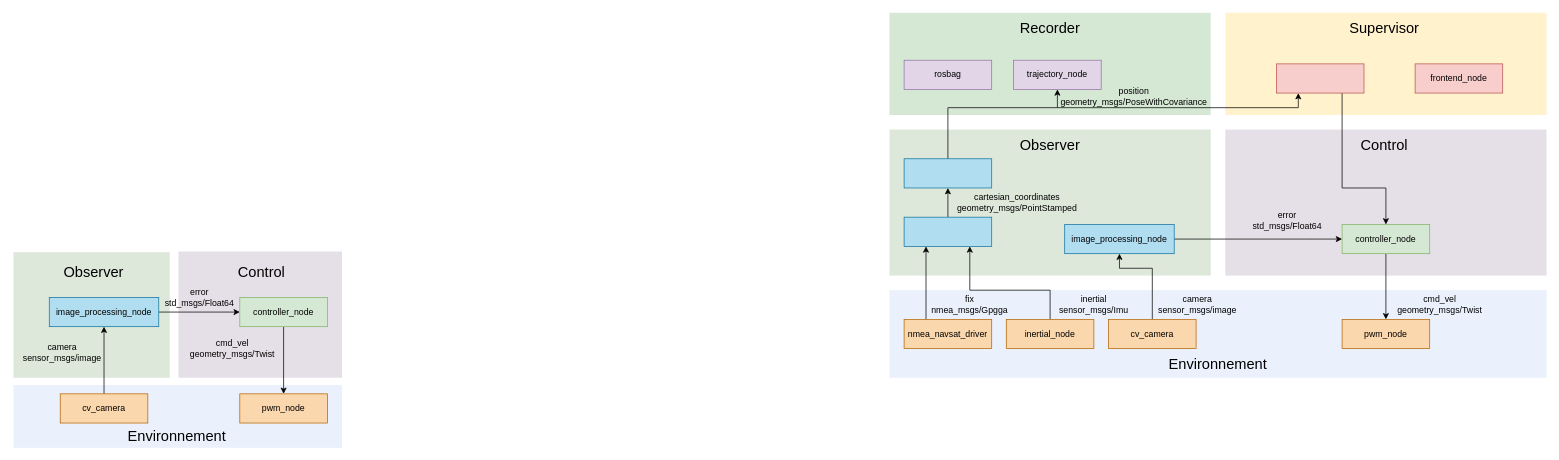
The diagram is 1559 pixels wide and 460 high, and some of its shapes have lost their labels. The centre of each missing label's shape, as x and y in pixels:
fsm_node: [1320,78]
observer_node: [947,173]
projection_node: [947,231]
